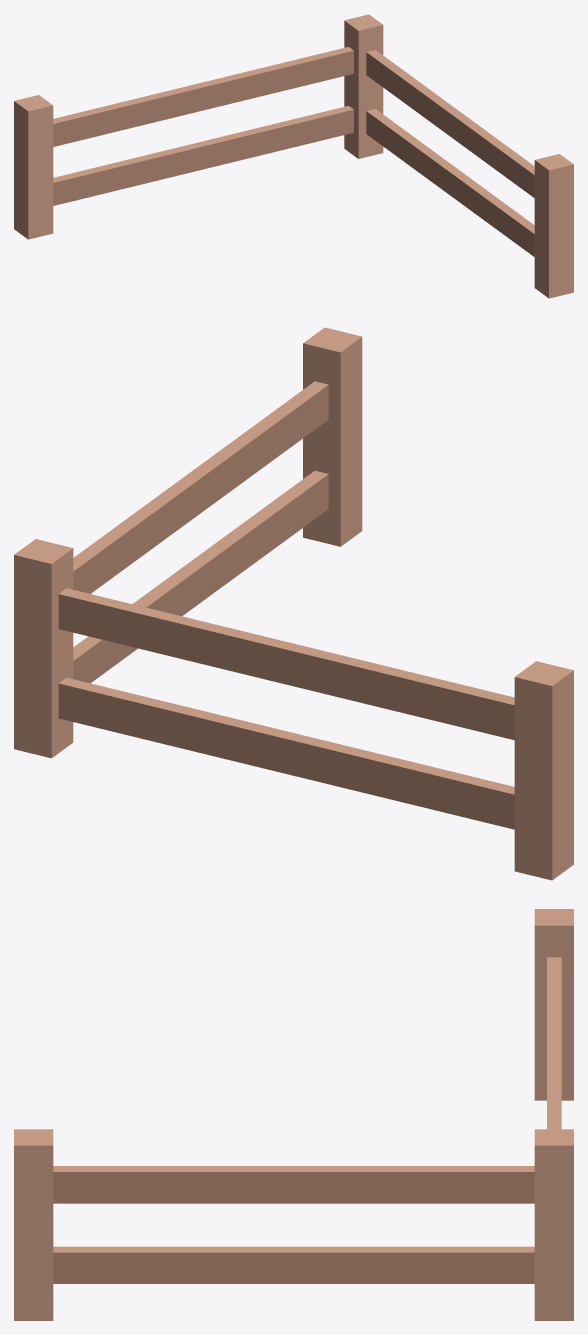
The model's file is fence_corner.glb.
3 renders of one model, top to bottom at view 1: azimuth 30°, elevation 25°; view 2: azimuth 150°, elevation 25°; view 3: azimuth 270°, elevation 25°, orthographic. The views are drawn at different scales.
Visible parts, largest first — view 1: fence_corner; view 2: fence_corner; view 3: fence_corner.
Part boxes in pixels (left/top/right/bottom): fence_corner: left=14, top=14, right=573, bottom=298; fence_corner: left=14, top=327, right=573, bottom=880; fence_corner: left=14, top=909, right=573, bottom=1320.
Bounding box in the file's own units: 1 × 0.345 × 1.
